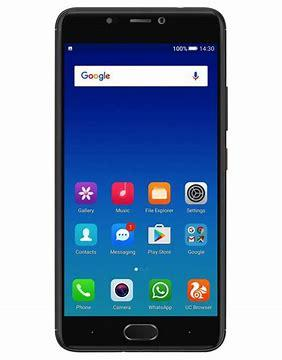Smart Phone: (53, 5, 228, 358)
